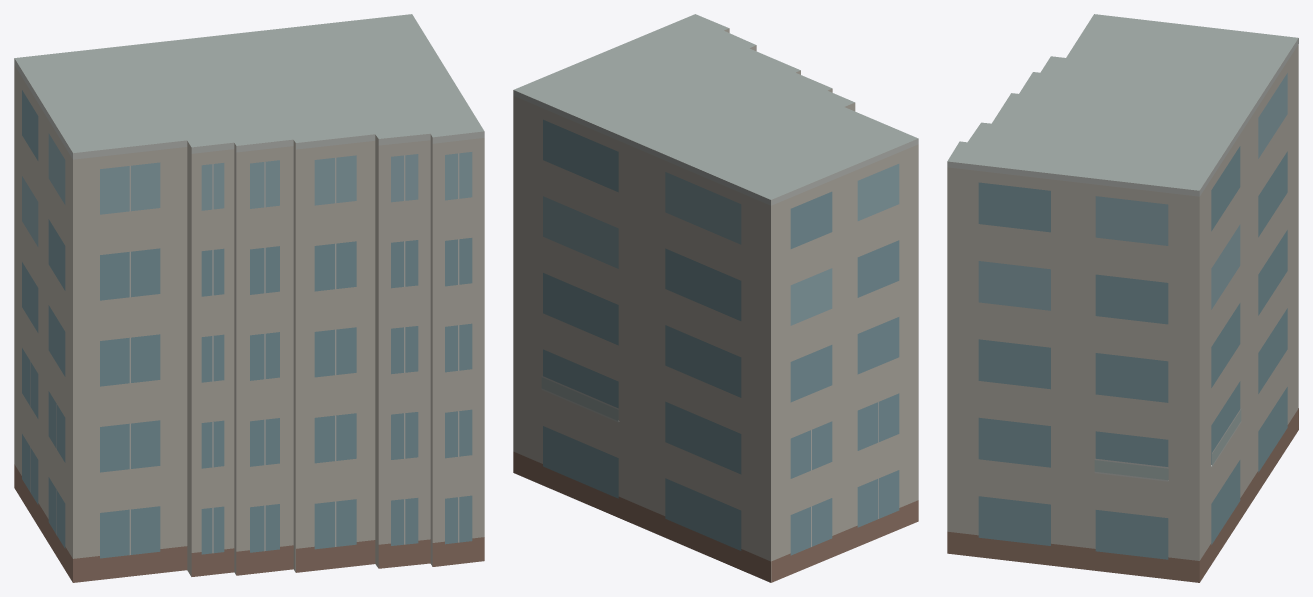
File: survey-upis-33021368.glb
3 views of the same model, side by side, from view 1: azimuth 30°, elevation 25°; view 2: azimuth 150°, elevation 25°; view 3: azimuth 270°, elevation 25° (orthographic). The views are drawn at different scales.
Visible parts, largest first — view 1: survey-upis-33021368.tmp; view 2: survey-upis-33021368.tmp; view 3: survey-upis-33021368.tmp.
Boxes of the visible parts, box(x1,y1,x2,y2) form: survey-upis-33021368.tmp: box(14, 14, 484, 582); survey-upis-33021368.tmp: box(513, 14, 918, 582); survey-upis-33021368.tmp: box(947, 14, 1298, 582).
Size of the model in its own units: 15.57 by 16.1 by 13.09.
